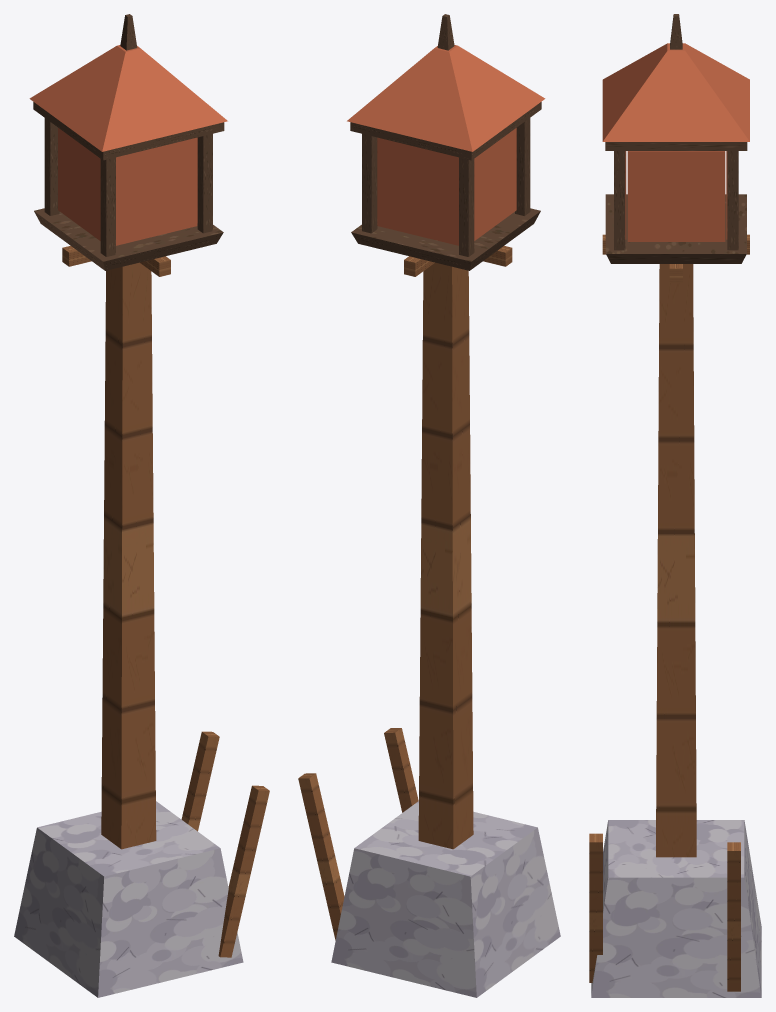
Rendered from beacon.glb.
3 views of the same model, side by side, from view 1: azimuth 30°, elevation 25°; view 2: azimuth 150°, elevation 25°; view 3: azimuth 270°, elevation 25° (orthographic).
Visible parts, largest first — view 1: beacon; view 2: beacon; view 3: beacon.
Boxes of the visible parts, x1=… form: beacon: x1=14, y1=14, x2=269, y2=997; beacon: x1=298, y1=14, x2=560, y2=997; beacon: x1=589, y1=14, x2=761, y2=997.
Size of the model in its own units: 1.95 by 9.2 by 1.51.
Materials: 1 (1 with a texture image).
